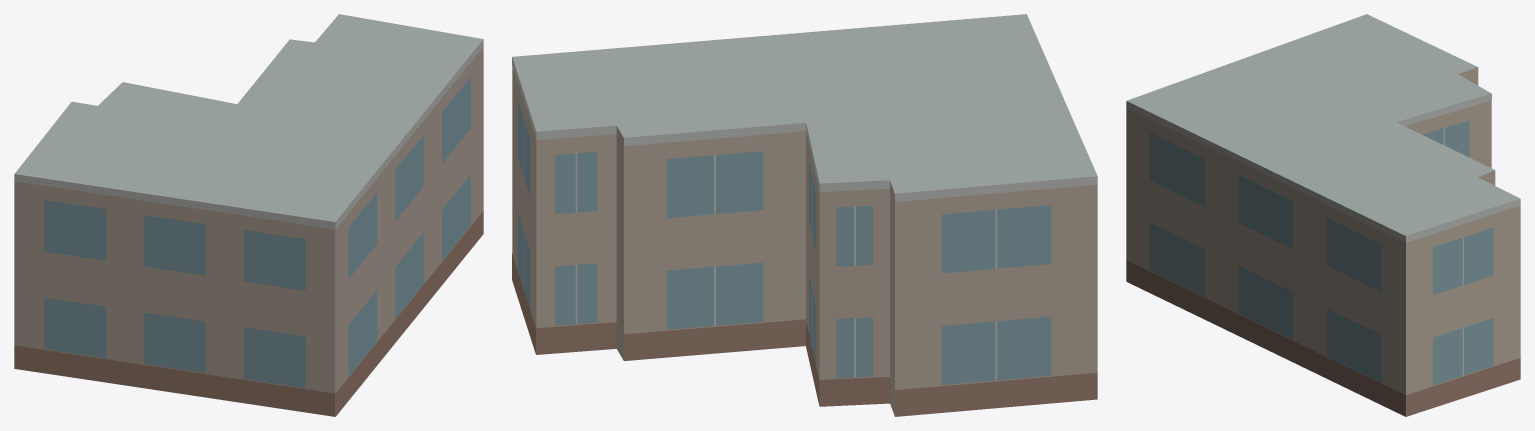
File: survey-upis-33043765.glb
The picture shows the model from 3 angles, left to right: view 1: azimuth 30°, elevation 25°; view 2: azimuth 150°, elevation 25°; view 3: azimuth 270°, elevation 25°; orthographic projection. The views are drawn at different scales.
Visible parts, largest first — view 1: survey-upis-33043765.tmp; view 2: survey-upis-33043765.tmp; view 3: survey-upis-33043765.tmp.
Part boxes in pixels (box(x1,y1,x2,y2)): survey-upis-33043765.tmp: box(14, 14, 483, 416); survey-upis-33043765.tmp: box(512, 14, 1097, 416); survey-upis-33043765.tmp: box(1126, 14, 1520, 416).
Bounding box in the file's own units: 17.13 × 6.5 × 12.85.
